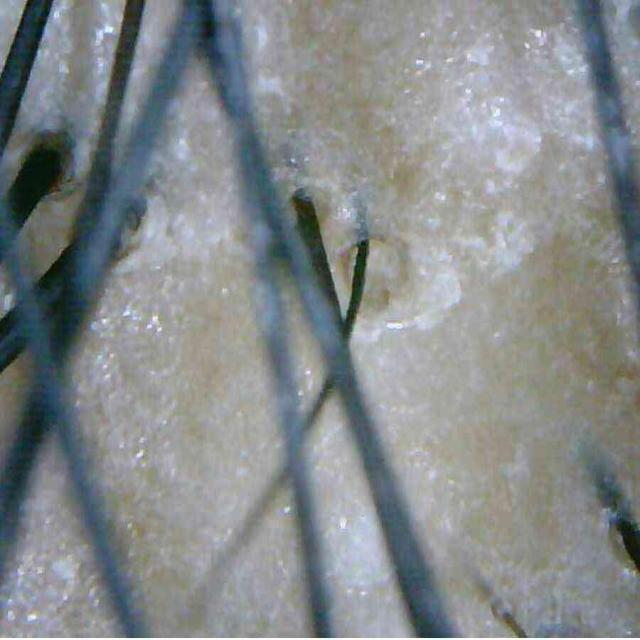ds: (108, 63, 242, 278), (236, 1, 297, 134)
o: (437, 20, 546, 193), (0, 497, 104, 638), (519, 13, 605, 165), (70, 0, 118, 177), (386, 234, 462, 330), (469, 207, 542, 283), (94, 289, 171, 344), (126, 409, 175, 486), (90, 343, 136, 393), (333, 195, 363, 237)
